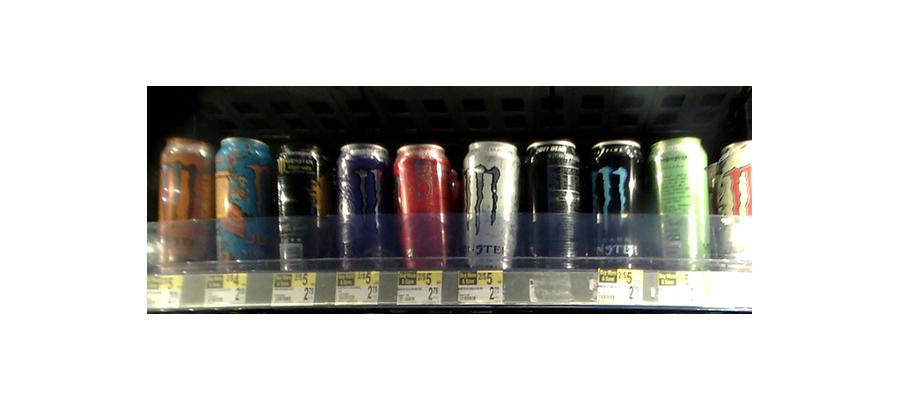bottle: (153, 134, 215, 274), (648, 140, 712, 271), (394, 143, 456, 269), (526, 143, 586, 271), (331, 143, 390, 271), (217, 137, 273, 270), (460, 144, 518, 269), (590, 138, 642, 275), (276, 145, 328, 270), (720, 139, 757, 263)
